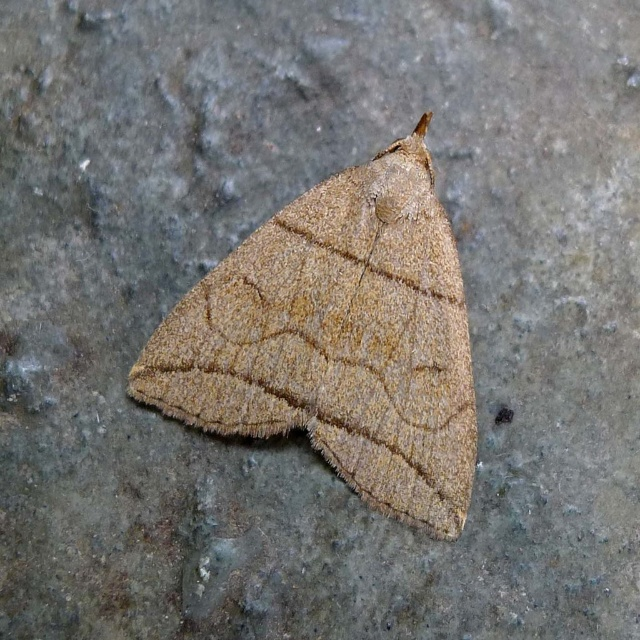Moths and butterflies: (127, 112, 480, 544)
